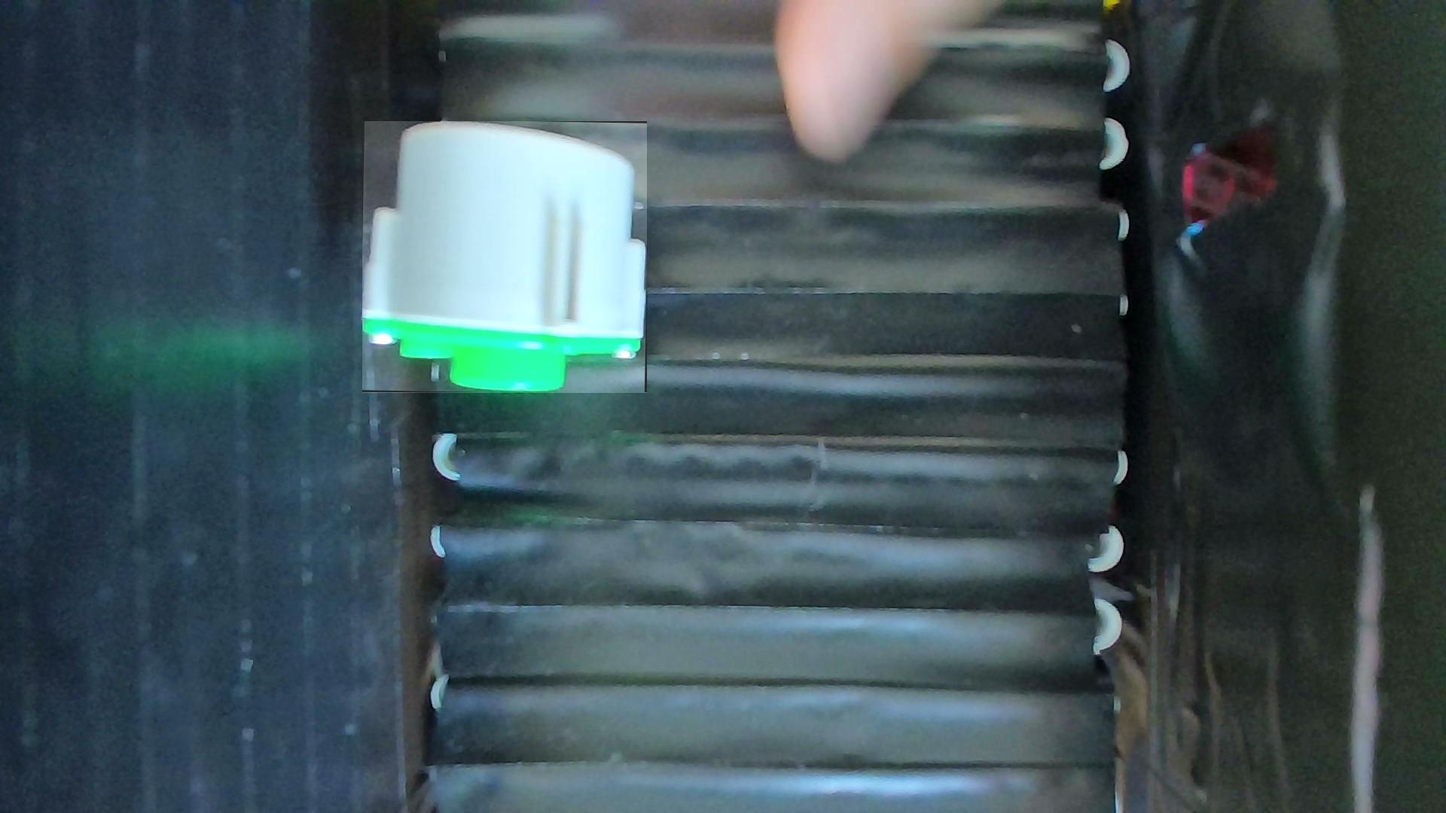cartridge: (362, 122, 647, 393)
